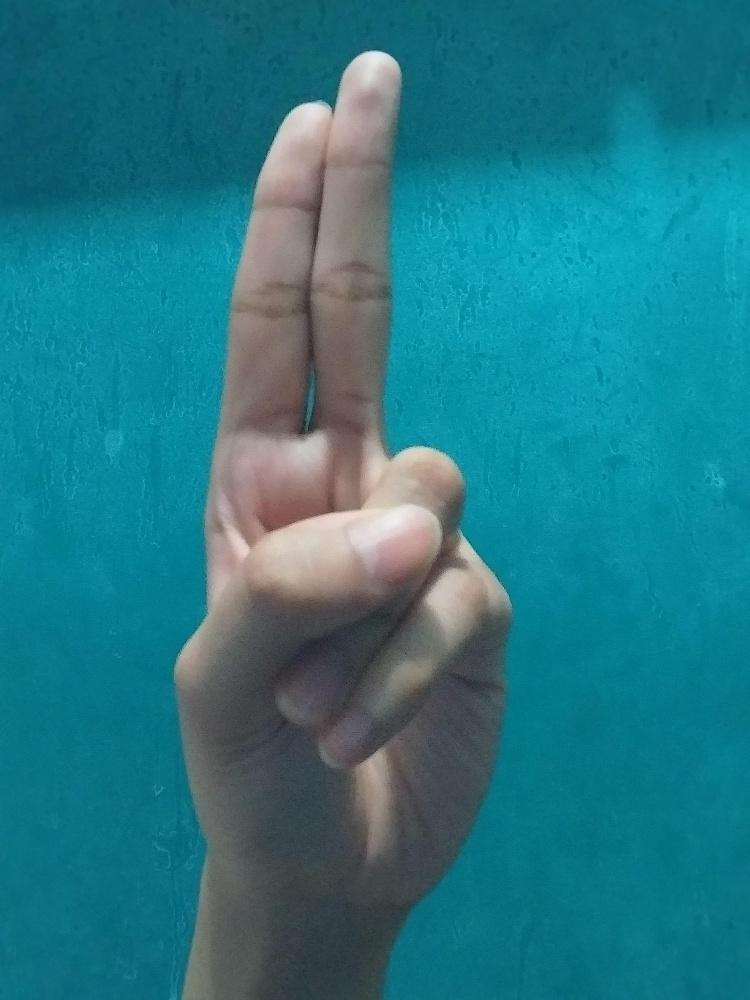u: (170, 50, 514, 922)
